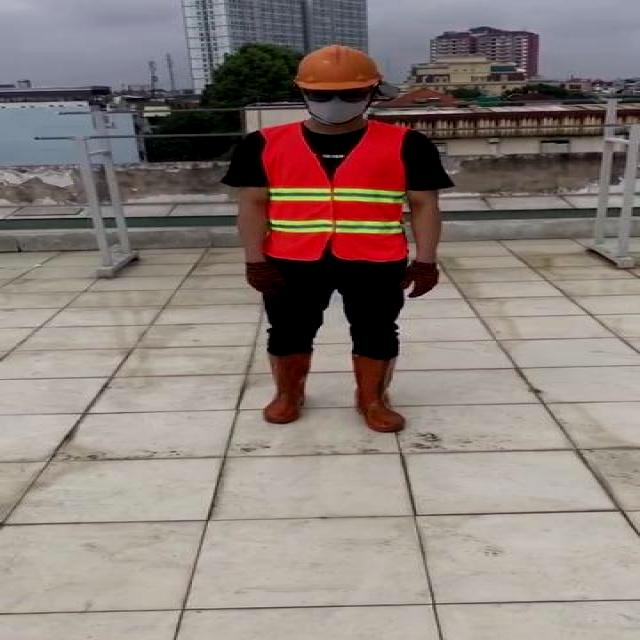boots: (349, 352, 407, 434), (265, 350, 315, 425)
face_mask: (302, 84, 372, 124)
glasses: (300, 83, 372, 103)
hand_glove: (245, 261, 288, 299), (398, 260, 438, 299)
head_helmet: (290, 44, 382, 92)
person: (227, 45, 450, 439)
vest: (259, 121, 409, 263)
